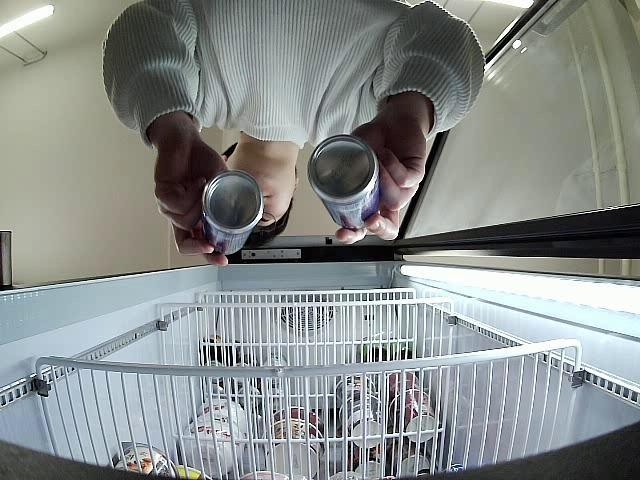16_hot6: (307, 135, 383, 232), (202, 170, 264, 256)
